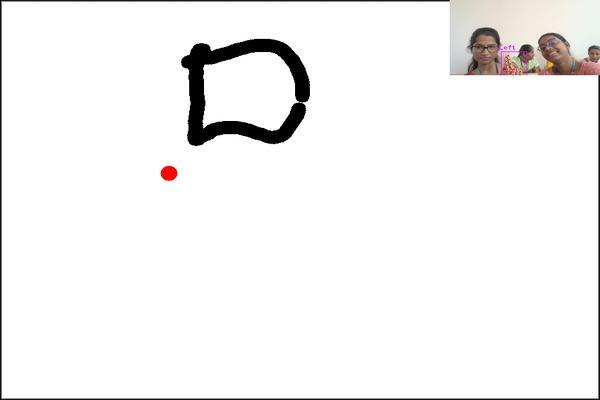D: (175, 30, 315, 151)
